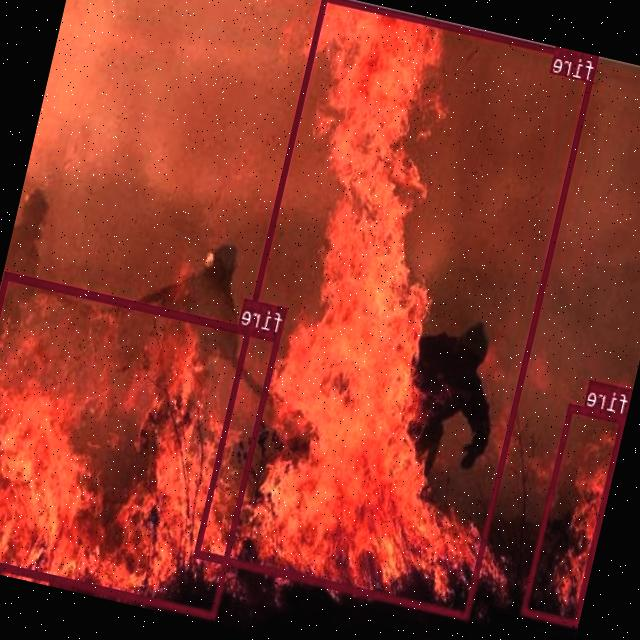fire: (194, 0, 598, 618), (0, 270, 282, 620), (522, 402, 626, 626)
